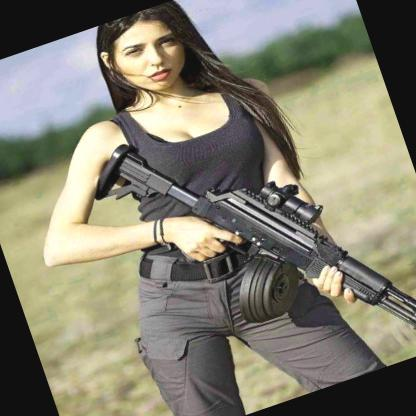rifle: (78, 50, 416, 416)
